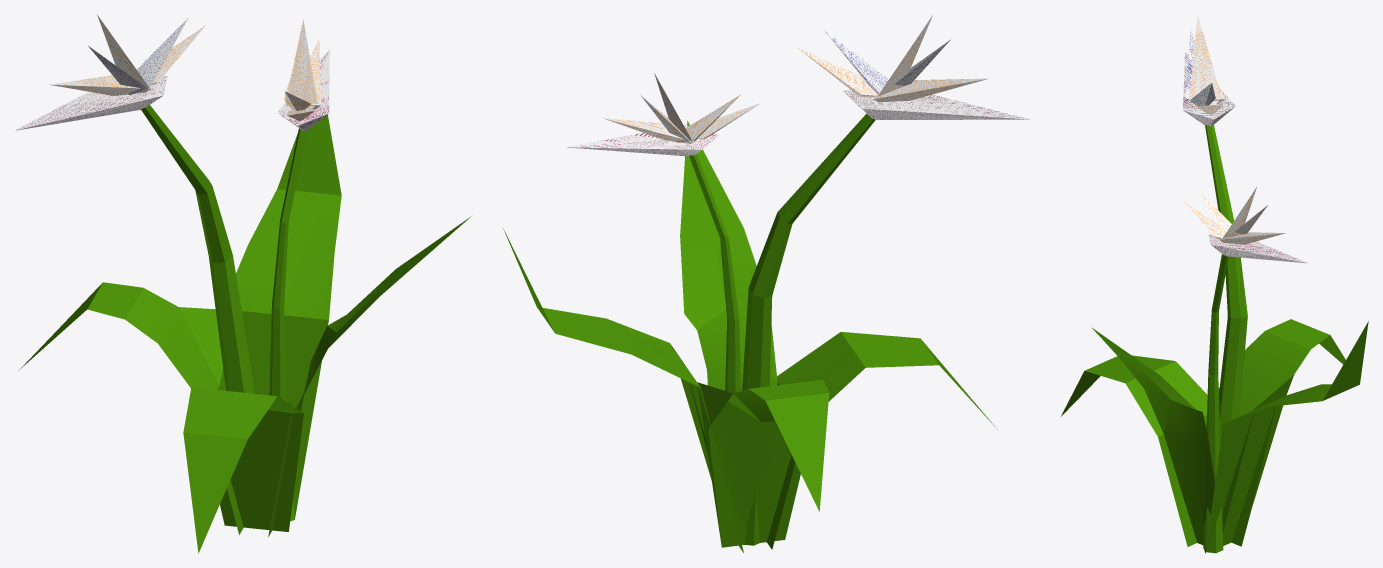
The model's file is Flower_BirdOfParadise_02.fbx.
The picture shows the model from 3 angles, left to right: view 1: azimuth 30°, elevation 25°; view 2: azimuth 150°, elevation 25°; view 3: azimuth 270°, elevation 25°; orthographic projection. The views are drawn at different scales.
Visible parts, largest first — view 1: Model; view 2: Model; view 3: Model.
Part boxes in pixels (left/top/right/bottom): Model: left=15, top=14, right=470, bottom=553; Model: left=503, top=15, right=1030, bottom=552; Model: left=1061, top=15, right=1368, bottom=553.
Size of the model in its own units: 125 by 160 by 97.27.
